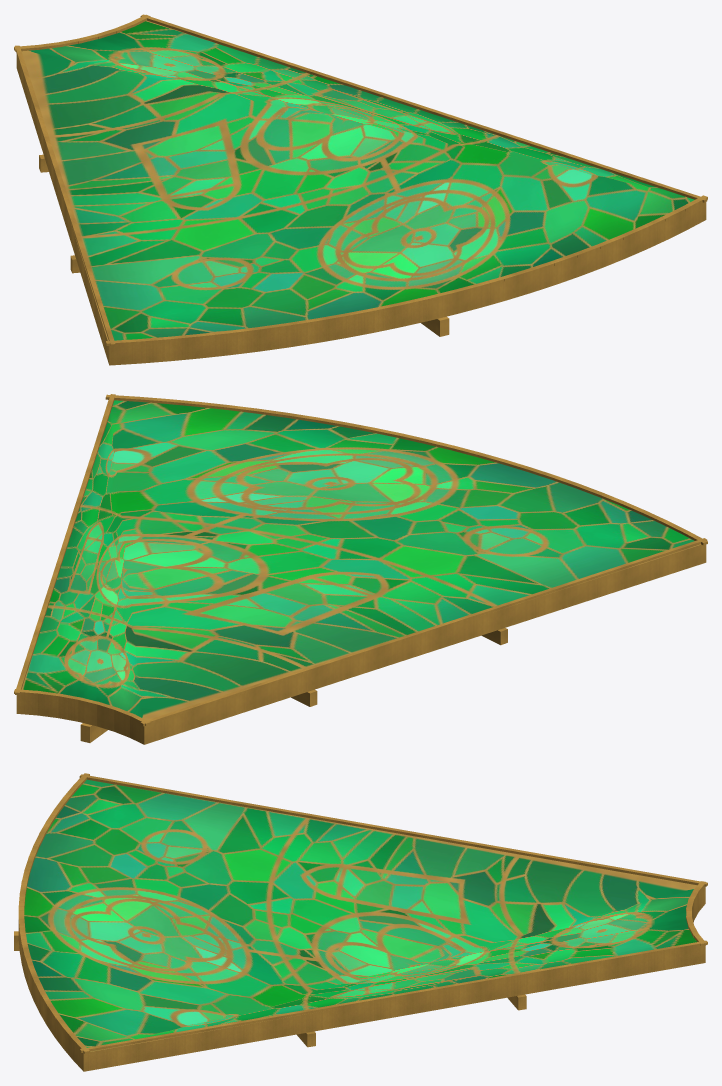
Rendered from lb_wedge_3.glb.
3 renders of one model, top to bottom at view 1: azimuth 30°, elevation 25°; view 2: azimuth 150°, elevation 25°; view 3: azimuth 270°, elevation 25°, orthographic. The views are drawn at different scales.
Visible parts, largest first — view 1: lb_wedge_3; view 2: lb_wedge_3; view 3: lb_wedge_3.
Part boxes in pixels (<box>): lb_wedge_3: <box>14,14,707,365</box>; lb_wedge_3: <box>14,394,707,744</box>; lb_wedge_3: <box>14,773,707,1071</box>.
Size of the model in its own units: 11.56 by 1.35 by 12.17.
4 materials, 3 textured.
